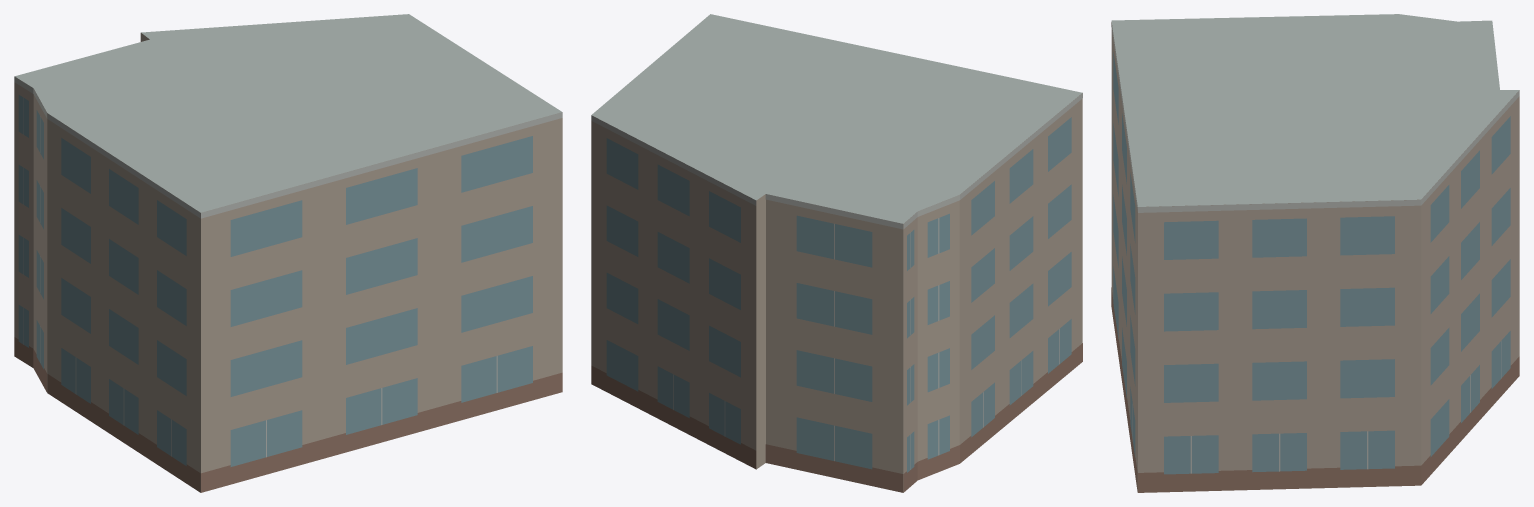
The model's file is survey-upis-32682068.glb.
3 renders of one model, left to right at view 1: azimuth 30°, elevation 25°; view 2: azimuth 150°, elevation 25°; view 3: azimuth 270°, elevation 25°, orthographic. The views are drawn at different scales.
Parts seen in each view (by area): view 1: survey-upis-32682068.tmp; view 2: survey-upis-32682068.tmp; view 3: survey-upis-32682068.tmp.
Boxes of the visible parts, <box> form: survey-upis-32682068.tmp: <box>14,14,562,492</box>; survey-upis-32682068.tmp: <box>591,14,1082,492</box>; survey-upis-32682068.tmp: <box>1111,14,1519,492</box>.
Size of the model in its own units: 16.95 by 11.7 by 15.15.
